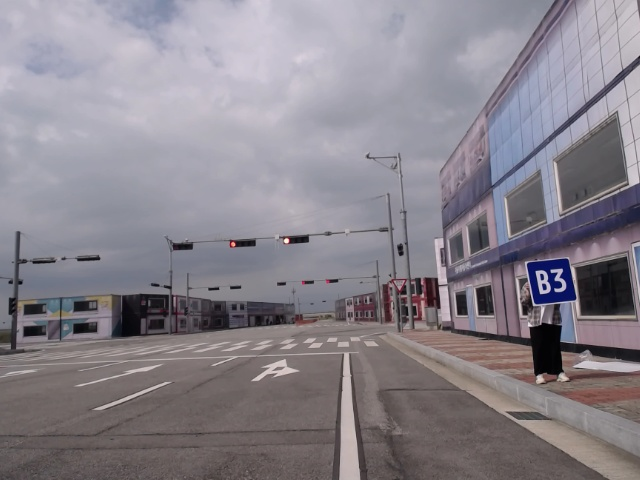delivery_b3: (525, 259, 577, 305)
red_4: (227, 237, 258, 249), (279, 235, 312, 245), (324, 276, 342, 286), (299, 279, 317, 286)
